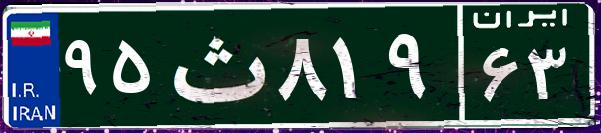1: (330, 28, 385, 110)
3: (525, 38, 570, 115)
5: (110, 28, 158, 105)
6: (475, 38, 525, 113)
8: (273, 28, 330, 110)
9: (385, 28, 445, 110), (57, 26, 110, 107)
ث: (158, 15, 273, 115)
